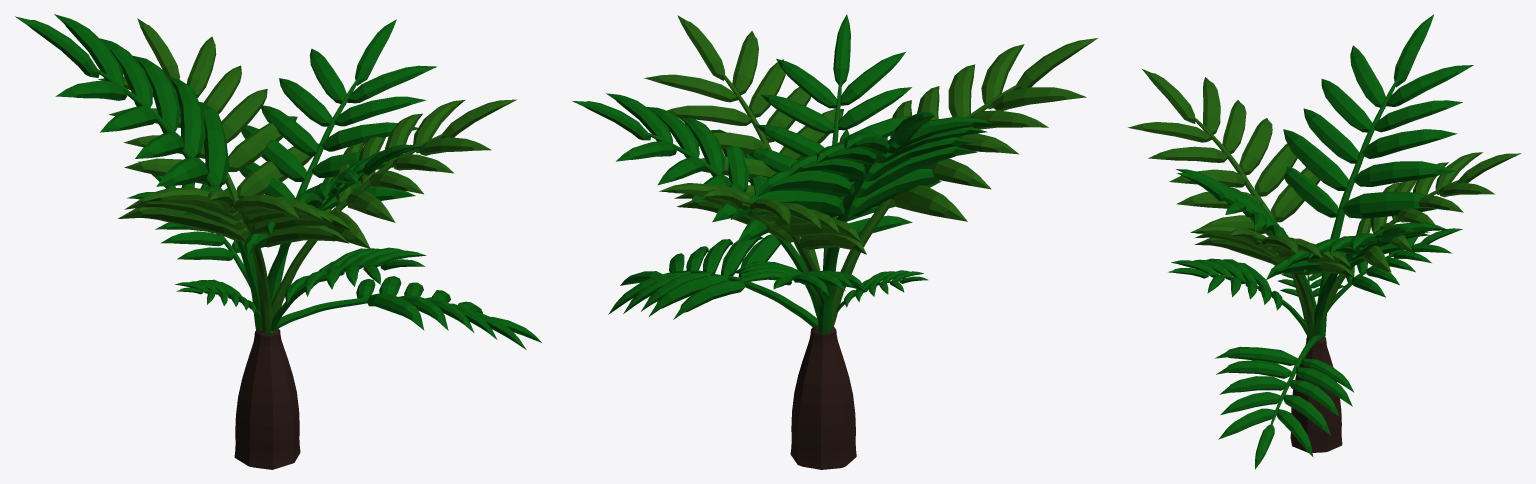
Rendered from lp_palm_8_Cube_030.obj.
3 renders of one model, left to right at view 1: azimuth 30°, elevation 25°; view 2: azimuth 150°, elevation 25°; view 3: azimuth 270°, elevation 25°, orthographic. The views are drawn at different scales.
Parts seen in each view (by area): view 1: lp_palm_8_Cube_030; view 2: lp_palm_8_Cube_030; view 3: lp_palm_8_Cube_030.
Part boxes in pixels (x1,y1,x2,y2): lp_palm_8_Cube_030: (15, 14, 541, 469); lp_palm_8_Cube_030: (572, 14, 1097, 469); lp_palm_8_Cube_030: (1128, 14, 1521, 469).
Bounding box in the file's own units: 9.86 × 9.57 × 9.53.
